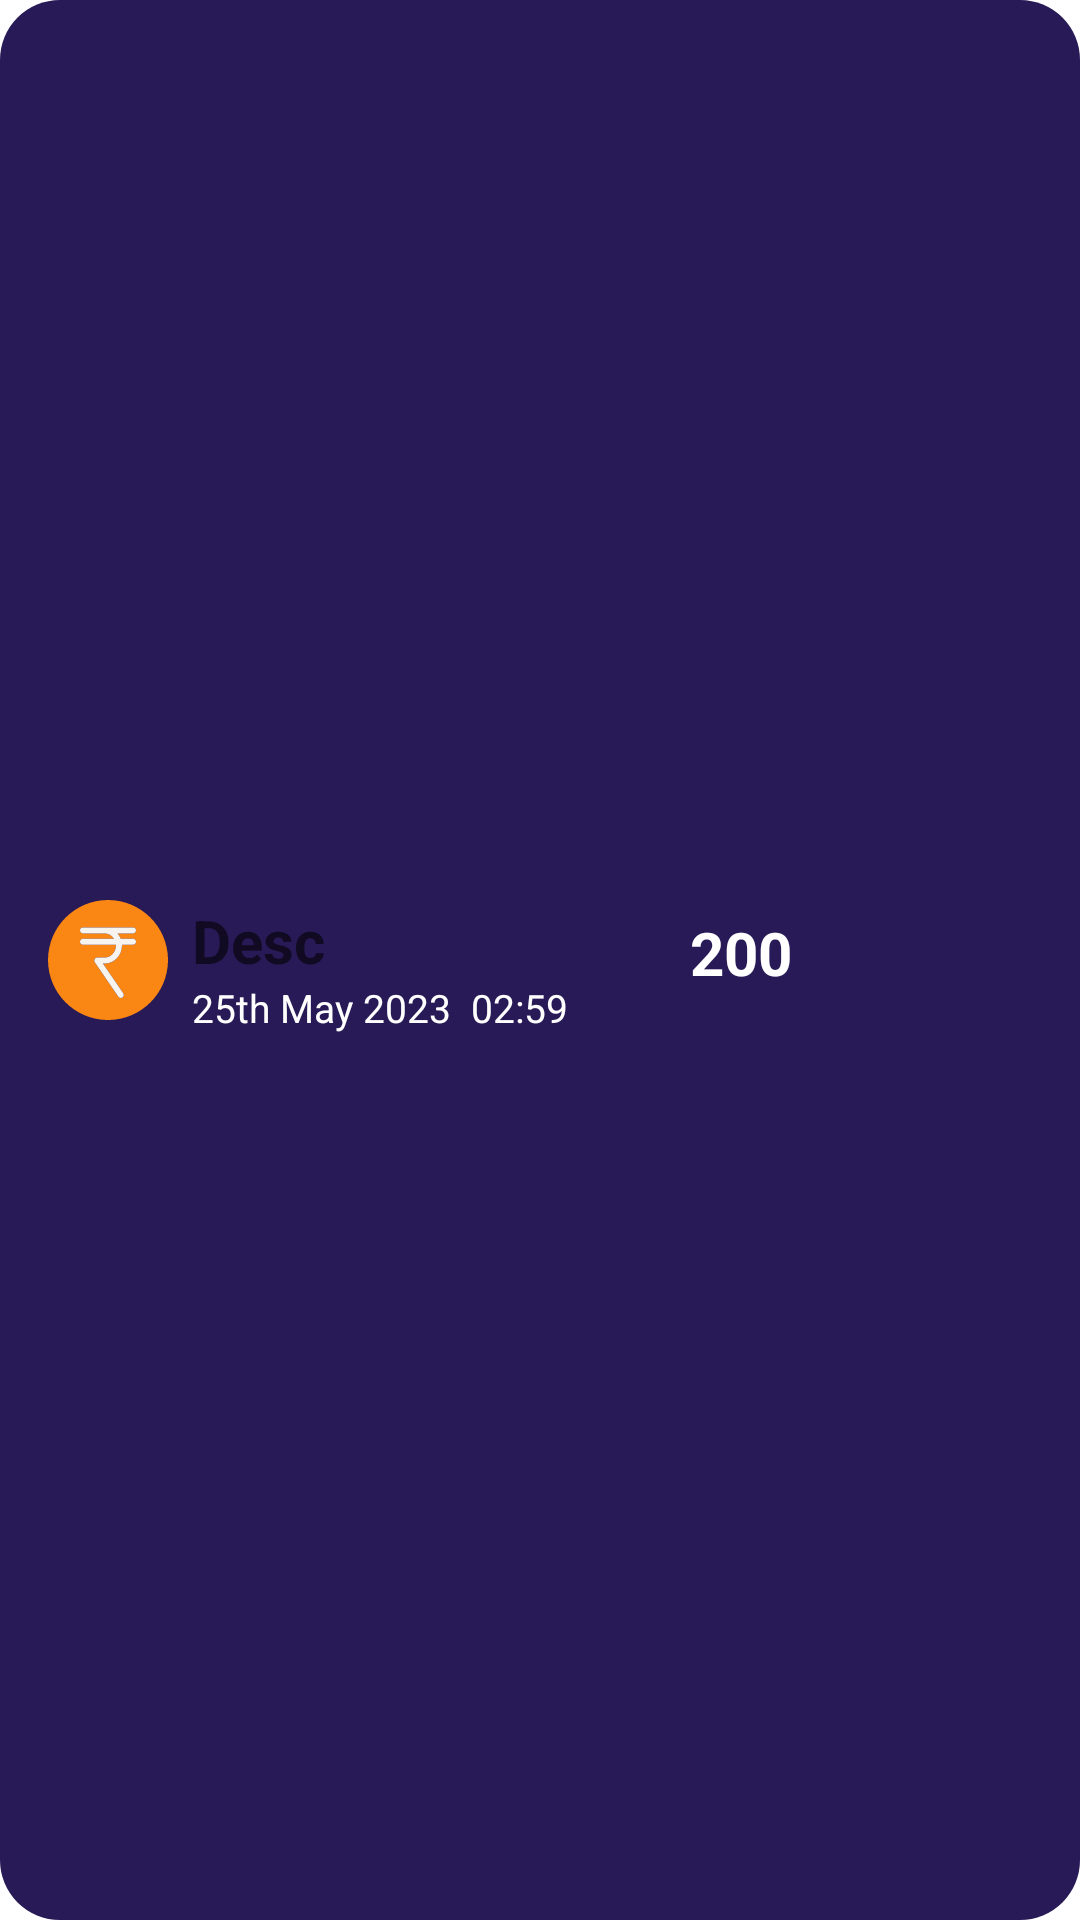

Point at icon controls on the screen. Image size 1080x1920, points as (x,y).
rupees: (108,960)
